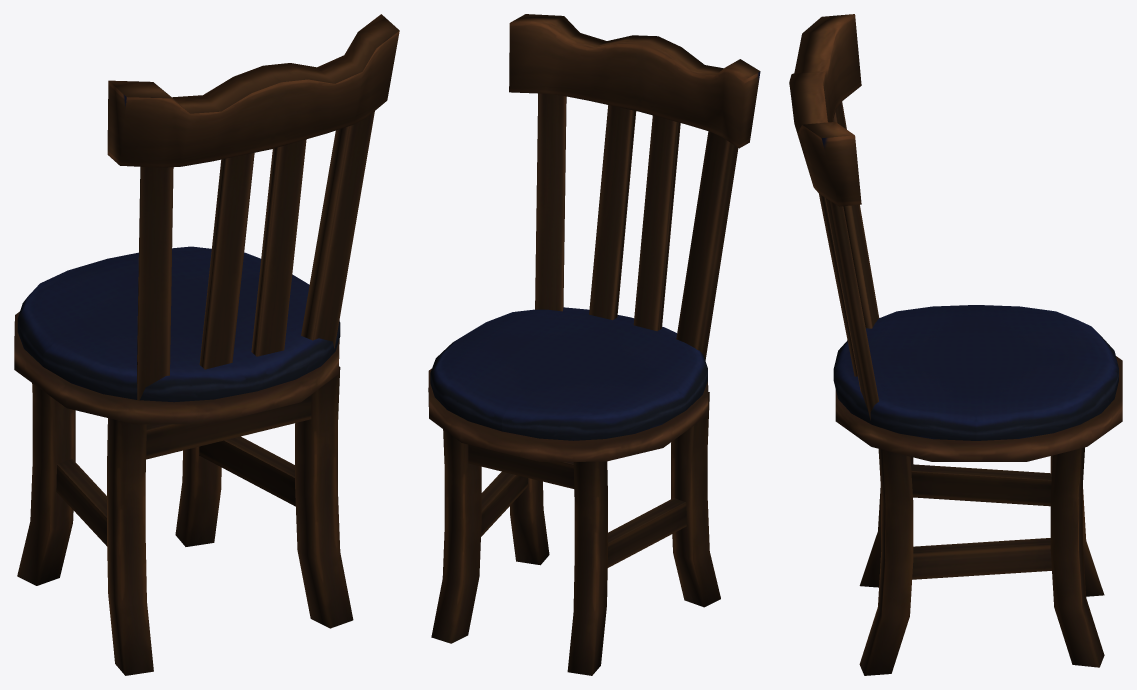
The model's file is Chair_A.fbx.
The picture shows the model from 3 angles, left to right: view 1: azimuth 30°, elevation 25°; view 2: azimuth 150°, elevation 25°; view 3: azimuth 270°, elevation 25°; orthographic projection. The views are drawn at different scales.
Visible parts, largest first — view 1: Chair_Backing_C, Chair_Legs_A, Chair_Cushion_Base_B, Chair_Legs_A_Support, Chair_Base_B; view 2: Chair_Backing_C, Chair_Cushion_Base_B, Chair_Legs_A, Chair_Base_B, Chair_Legs_A_Support; view 3: Chair_Cushion_Base_B, Chair_Backing_C, Chair_Legs_A, Chair_Legs_A_Support, Chair_Base_B.
Part boxes in pixels (x1,y1,x2,y2): Chair_Backing_C: [107, 14, 399, 400]; Chair_Legs_A: [17, 366, 353, 675]; Chair_Cushion_Base_B: [17, 246, 340, 402]; Chair_Legs_A_Support: [56, 395, 311, 546]; Chair_Base_B: [14, 311, 339, 424]; Chair_Backing_C: [509, 14, 760, 360]; Chair_Cushion_Base_B: [430, 307, 707, 440]; Chair_Legs_A: [431, 392, 720, 675]; Chair_Base_B: [428, 368, 708, 461]; Chair_Legs_A_Support: [468, 444, 686, 567]; Chair_Cushion_Base_B: [833, 305, 1118, 440]; Chair_Backing_C: [789, 14, 879, 420]; Chair_Legs_A: [859, 447, 1104, 675]; Chair_Legs_A_Support: [911, 464, 1051, 579]; Chair_Base_B: [835, 356, 1122, 461].
Size of the model in its own units: 5.66 by 11.98 by 6.57.
